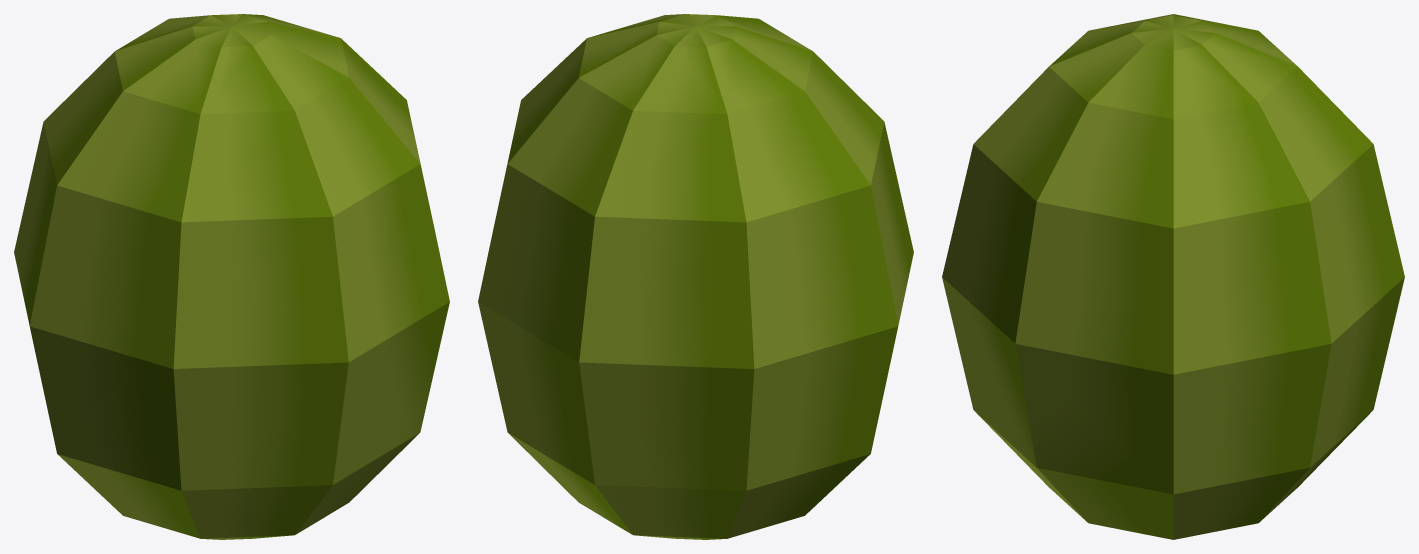
File: Watermelon.fbx
The picture shows the model from 3 angles, left to right: view 1: azimuth 30°, elevation 25°; view 2: azimuth 150°, elevation 25°; view 3: azimuth 270°, elevation 25°; orthographic projection.
Visible parts, largest first — view 1: Watermelon_All, Watermelon_Piece; view 2: Watermelon_All, Watermelon_Piece; view 3: Watermelon_All, Watermelon_Piece.
Boxes of the visible parts, x1=… form: Watermelon_All: x1=14, y1=14, x2=449, y2=539; Watermelon_Piece: x1=29, y1=302, x2=449, y2=515; Watermelon_All: x1=478, y1=14, x2=913, y2=515; Watermelon_Piece: x1=478, y1=302, x2=898, y2=539; Watermelon_All: x1=942, y1=14, x2=1404, y2=524; Watermelon_Piece: x1=1015, y1=277, x2=1404, y2=539.
Bounding box in the file's own units: 22.81 × 26.98 × 22.81.
